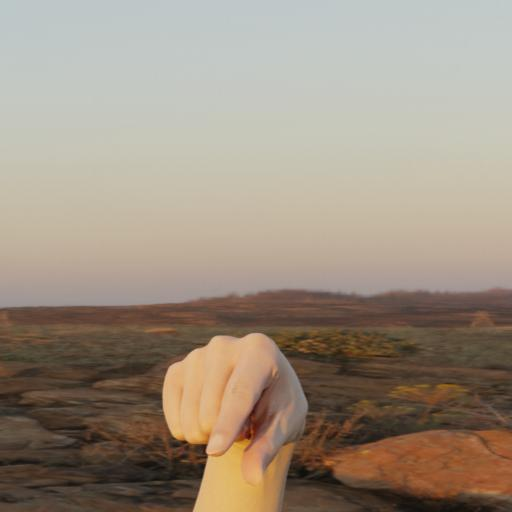Q: (154, 325, 313, 492)
